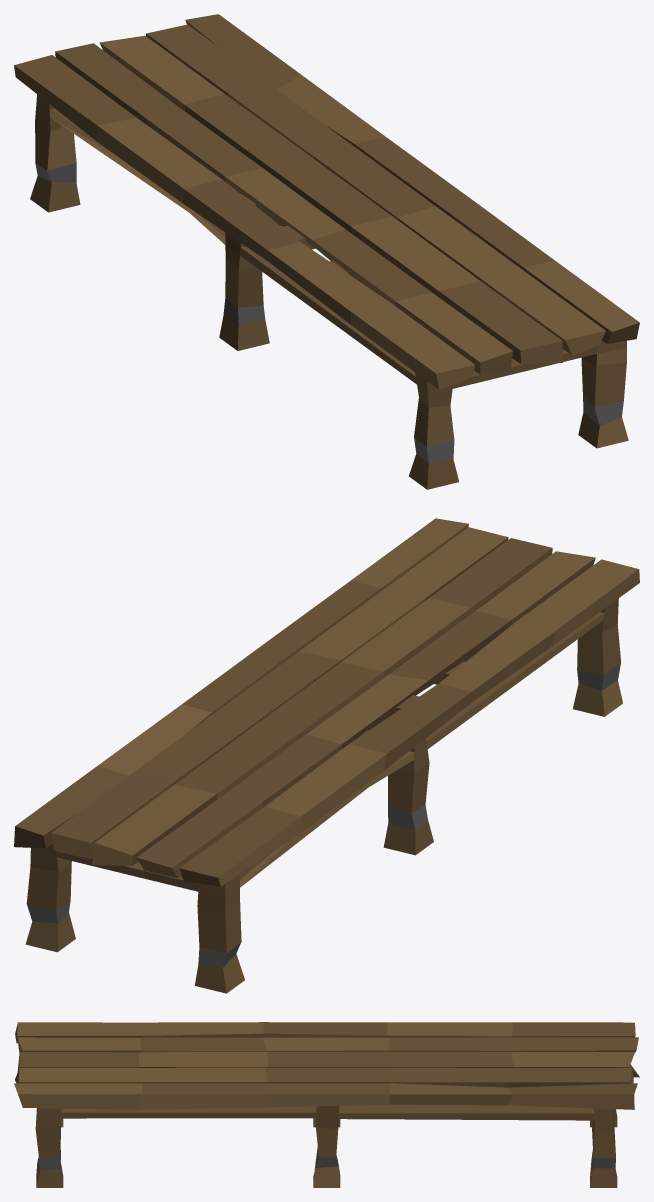
Rendered from Table2.fbx.
3 views of the same model, one above another, from view 1: azimuth 30°, elevation 25°; view 2: azimuth 150°, elevation 25°; view 3: azimuth 270°, elevation 25° (orthographic). The views are drawn at different scales.
Parts seen in each view (by area): view 1: Table2; view 2: Table2; view 3: Table2.
Part boxes in pixels (x1,y1,x2,y2): Table2: (14,14,639,489); Table2: (14,518,639,993); Table2: (14,1022,639,1187).
Bounding box in the file's own units: 82.93 × 47.64 × 290.
